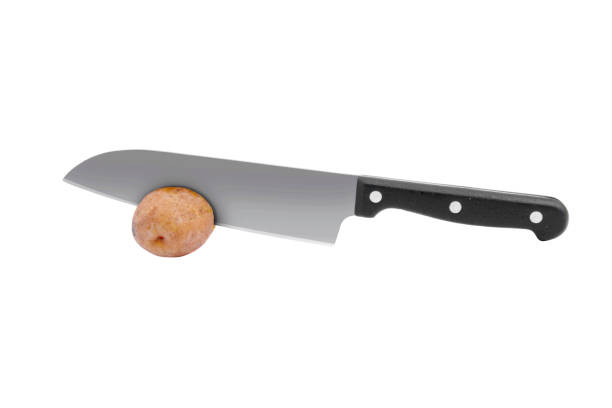knife: (61, 150, 570, 246)
